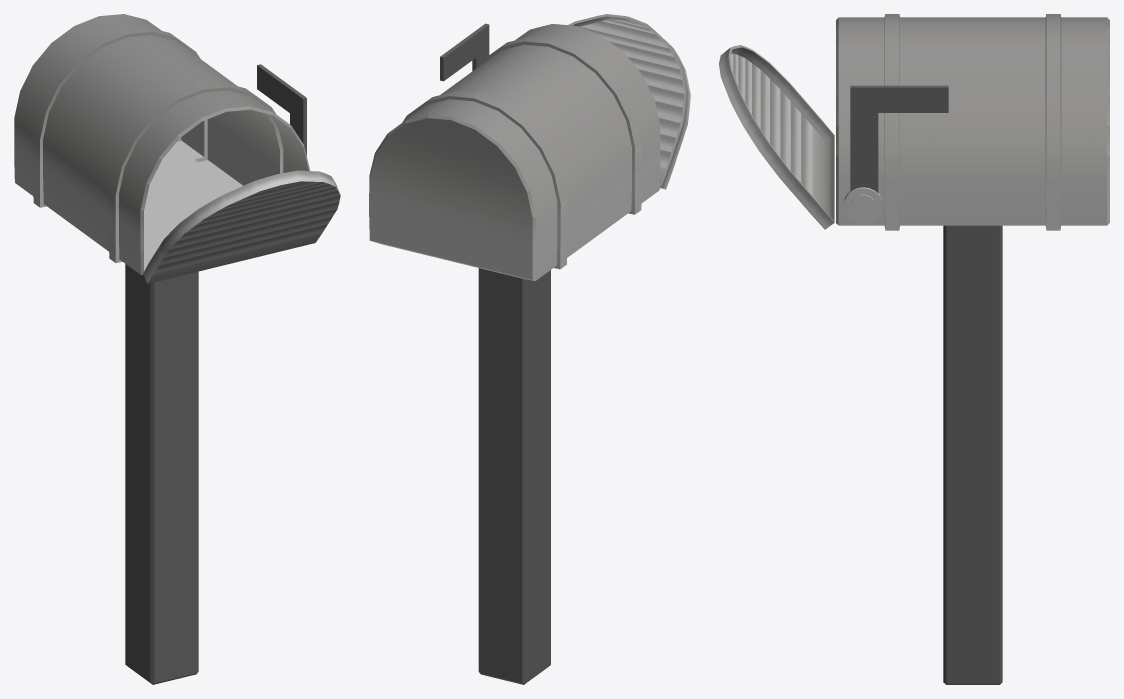
The model's file is Mailbox Dae .dae.
The picture shows the model from 3 angles, left to right: view 1: azimuth 30°, elevation 25°; view 2: azimuth 150°, elevation 25°; view 3: azimuth 270°, elevation 25°; orthographic projection. The views are drawn at different scales.
Parts seen in each view (by area): view 1: Box, Stand, lid, Handel1; view 2: Box, Stand, lid, Handel1; view 3: Box, Stand, lid, Handel1, Handel.
Part boxes in pixels (<box>): Box: <box>14,14,309,274</box>; Stand: <box>125,264,198,684</box>; lid: <box>143,170,340,283</box>; Handel1: <box>257,64,306,156</box>; Box: <box>369,24,660,280</box>; Stand: <box>478,268,550,684</box>; lid: <box>568,14,690,189</box>; Handel1: <box>440,23,489,81</box>; Box: <box>836,14,1109,230</box>; Stand: <box>943,225,1002,684</box>; lid: <box>719,45,834,229</box>; Handel1: <box>850,85,948,193</box>; Handel: <box>843,187,882,223</box>.
Size of the model in its own units: 81.79 by 268 by 146.
